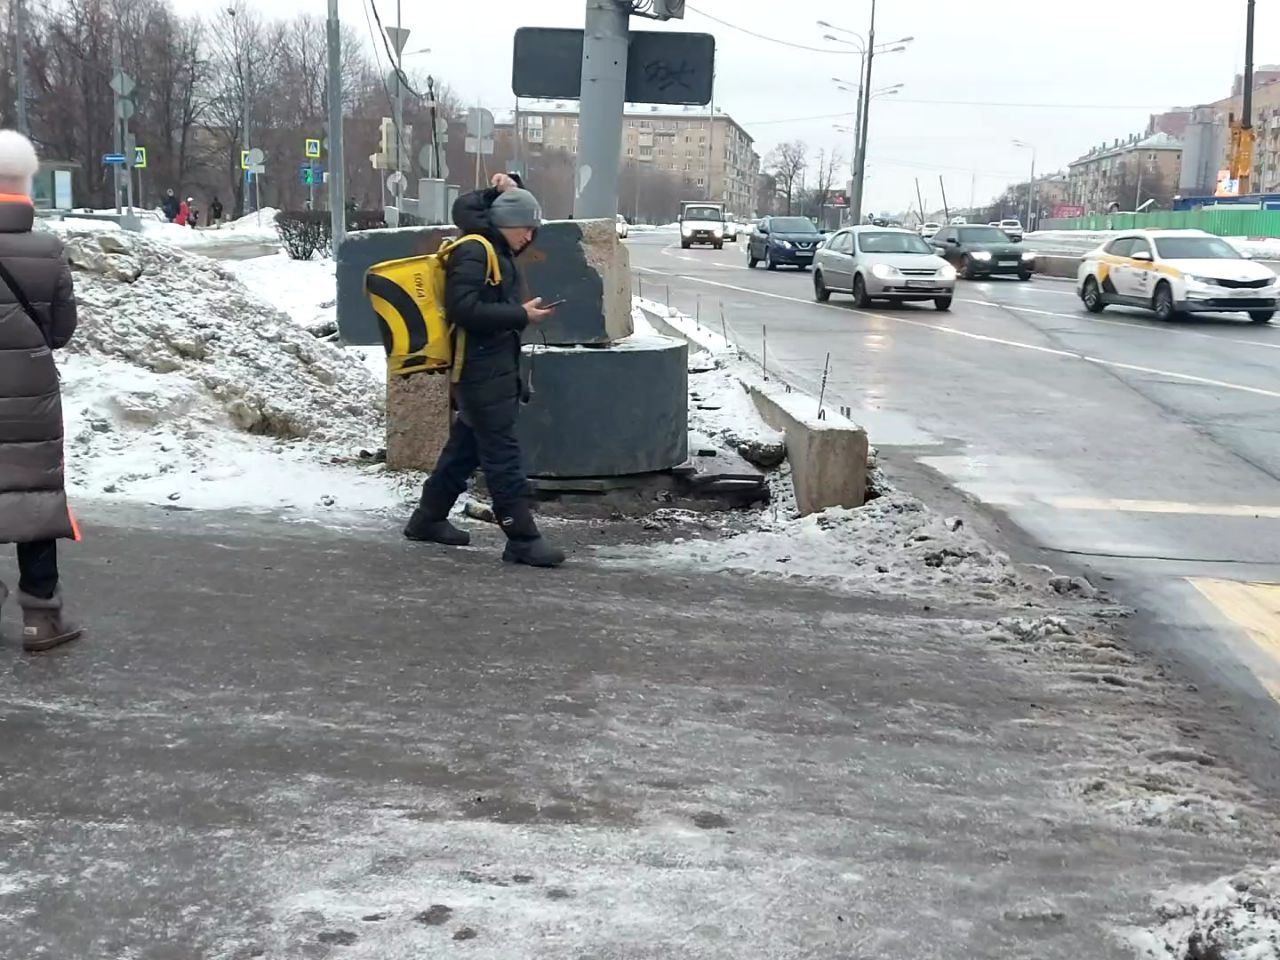sombie: (353, 160, 619, 583)
